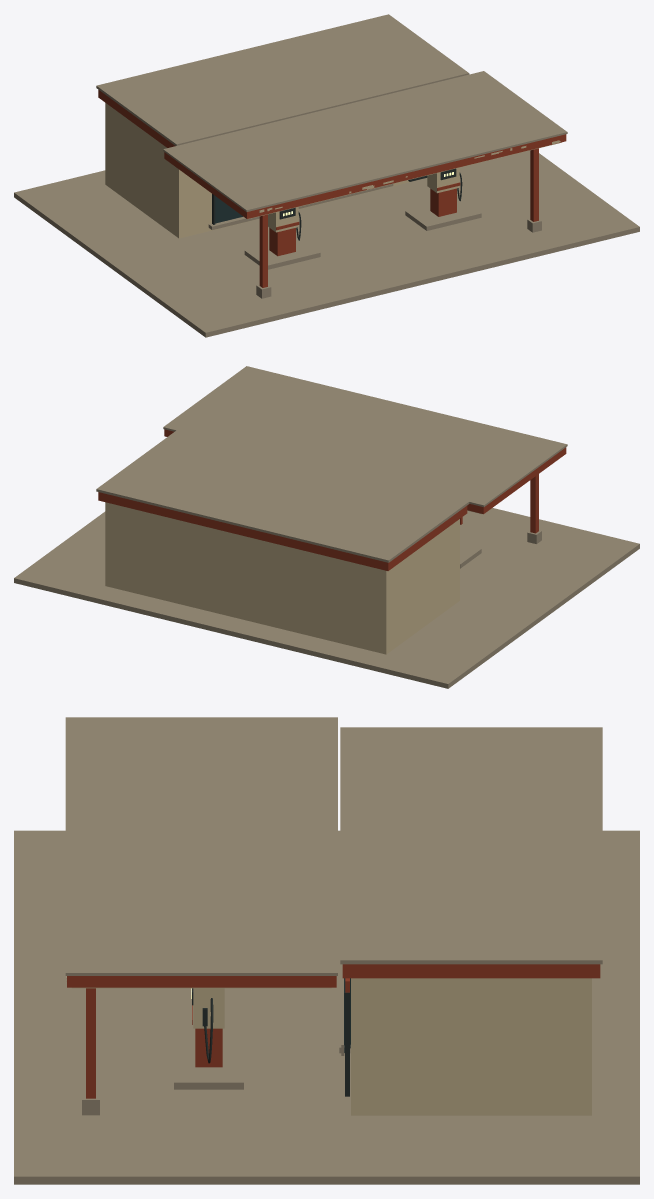
Rendered from desert-service-station.glb.
The picture shows the model from 3 angles, top to bottom: view 1: azimuth 30°, elevation 25°; view 2: azimuth 150°, elevation 25°; view 3: azimuth 270°, elevation 25°; orthographic projection. The views are drawn at different scales.
Visible parts, largest first — view 1: Concrete apron, Canopy top lip, Roof coping, Cream stucco building, Pump canopy outer, Pump island (×2), Vintage fuel pump pedestal (×2), Canopy steel post (×2), Rust red roof parapet, Window sill; view 2: Concrete apron, Cream stucco building, Canopy top lip, Roof coping, Rust red roof parapet, Pump canopy outer, Canopy steel post; view 3: Concrete apron, Canopy top lip, Roof coping, Cream stucco building, Rust red roof parapet, Pump canopy outer, Pump island, Pump upper cream shell, Canopy steel post, Vintage fuel pump pedestal.
Boxes of the visible parts, x1=… form: Concrete apron: x1=14, y1=150, x2=639, y2=337; Canopy top lip: x1=163, y1=71, x2=567, y2=211; Roof coping: x1=96, y1=14, x2=469, y2=145; Cream stucco building: x1=105, y1=103, x2=459, y2=238; Pump canopy outer: x1=164, y1=134, x2=566, y2=218; Pump island (×2): x1=244, y1=198, x2=481, y2=269; Vintage fuel pump pedestal (×2): x1=269, y1=188, x2=456, y2=256; Canopy steel post (×2): x1=259, y1=148, x2=538, y2=287; Rust red roof parapet: x1=98, y1=90, x2=175, y2=147; Window sill: x1=208, y1=184, x2=393, y2=229; Concrete apron: x1=14, y1=508, x2=639, y2=688; Cream stucco building: x1=105, y1=502, x2=459, y2=654; Canopy top lip: x1=163, y1=366, x2=567, y2=507; Roof coping: x1=96, y1=430, x2=469, y2=562; Rust red roof parapet: x1=98, y1=492, x2=467, y2=570; Pump canopy outer: x1=164, y1=429, x2=566, y2=514; Canopy steel post: x1=530, y1=474, x2=538, y2=533; Concrete apron: x1=14, y1=830, x2=639, y2=1184; Canopy top lip: x1=65, y1=717, x2=337, y2=975; Roof coping: x1=340, y1=727, x2=602, y2=964; Cream stucco building: x1=351, y1=978, x2=591, y2=1115; Rust red roof parapet: x1=342, y1=964, x2=600, y2=978; Pump canopy outer: x1=67, y1=976, x2=336, y2=987; Pump island: x1=174, y1=1039, x2=243, y2=1089; Pump upper cream shell: x1=193, y1=988, x2=224, y2=1028; Canopy steel post: x1=86, y1=988, x2=95, y2=1098; Vintage fuel pump pedestal: x1=195, y1=1028, x2=222, y2=1067.
Size of the model in its own units: 17 by 3.85 by 13.
